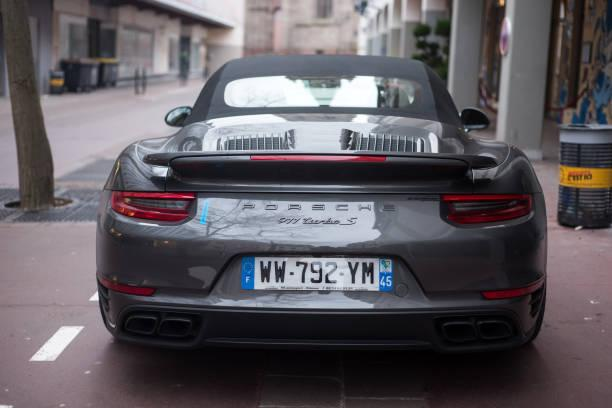porsche: (234, 199, 403, 217)
